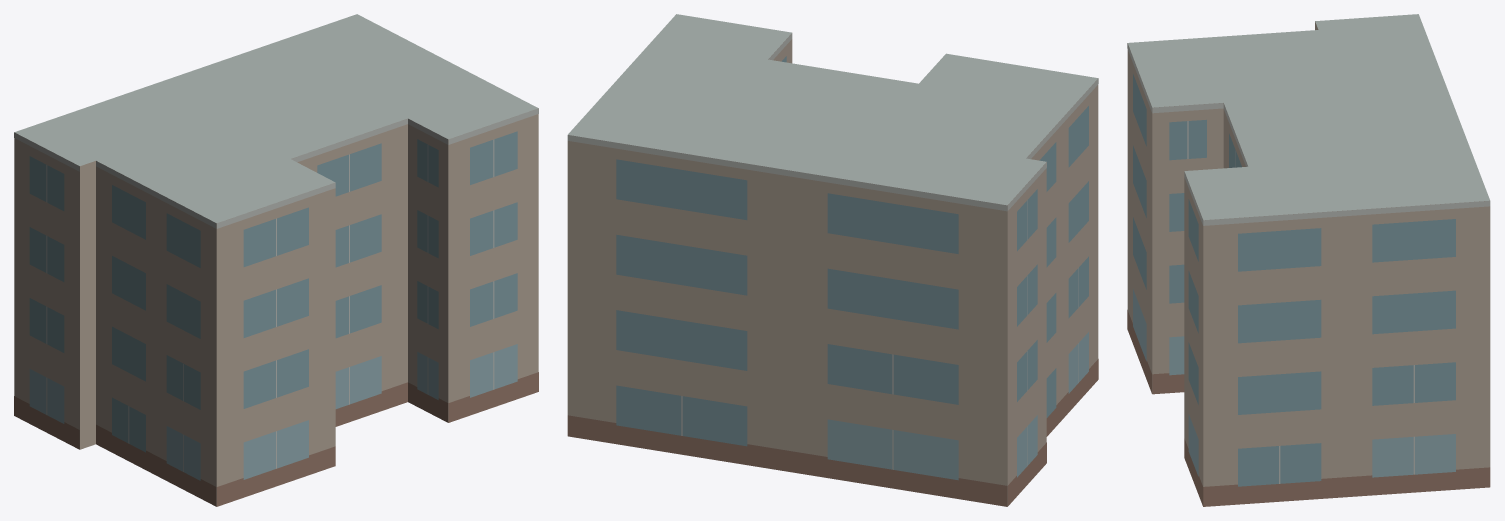
Rendered from survey-upis-32819002.glb.
The picture shows the model from 3 angles, left to right: view 1: azimuth 30°, elevation 25°; view 2: azimuth 150°, elevation 25°; view 3: azimuth 270°, elevation 25°; orthographic projection. The views are drawn at different scales.
Visible parts, largest first — view 1: survey-upis-32819002.tmp; view 2: survey-upis-32819002.tmp; view 3: survey-upis-32819002.tmp.
Boxes of the visible parts, x1=… form: survey-upis-32819002.tmp: x1=14, y1=14, x2=538, y2=506; survey-upis-32819002.tmp: x1=567, y1=14, x2=1098, y2=506; survey-upis-32819002.tmp: x1=1127, y1=14, x2=1490, y2=506.
Size of the model in its own units: 18.99 by 12.3 by 14.12.
